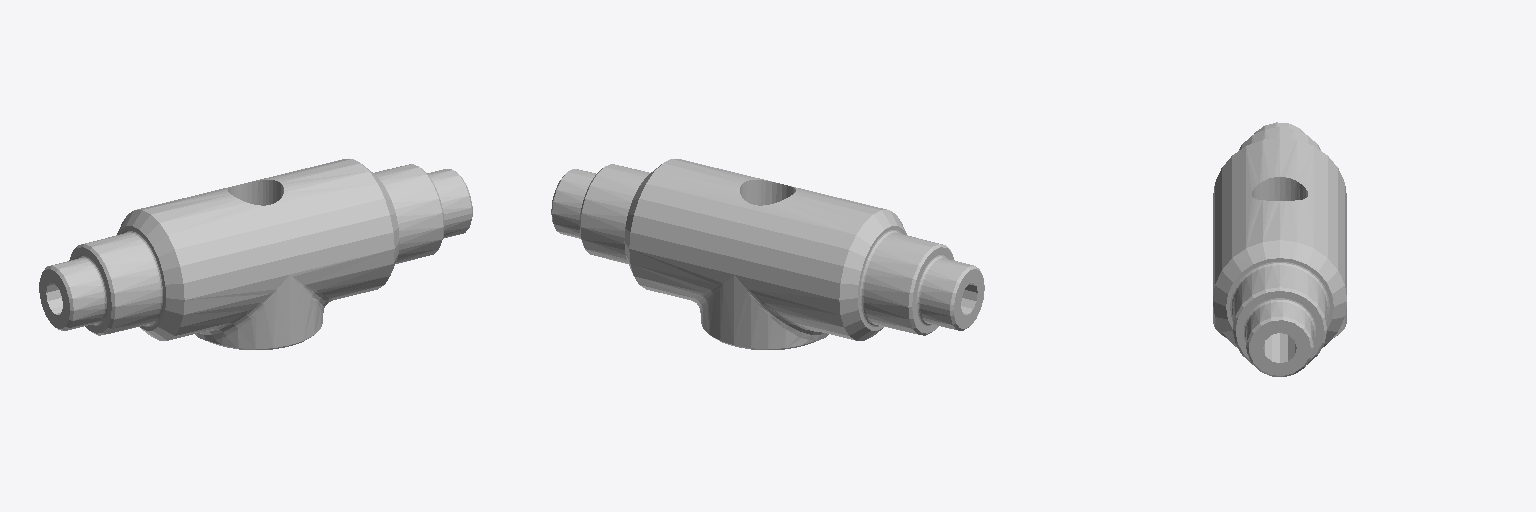
File: left_hand_roll_link.obj
3 renders of one model, left to right at view 1: azimuth 30°, elevation 25°; view 2: azimuth 150°, elevation 25°; view 3: azimuth 270°, elevation 25°, orthographic.
Visible parts, largest first — view 1: left_hand_roll_link; view 2: left_hand_roll_link; view 3: left_hand_roll_link.
Part boxes in pixels (bbox=[...]): left_hand_roll_link: bbox=[39, 159, 472, 349]; left_hand_roll_link: bbox=[551, 159, 984, 349]; left_hand_roll_link: bbox=[1213, 122, 1346, 376].
Size of the model in its own units: 0.0345 by 0.011 by 0.01.